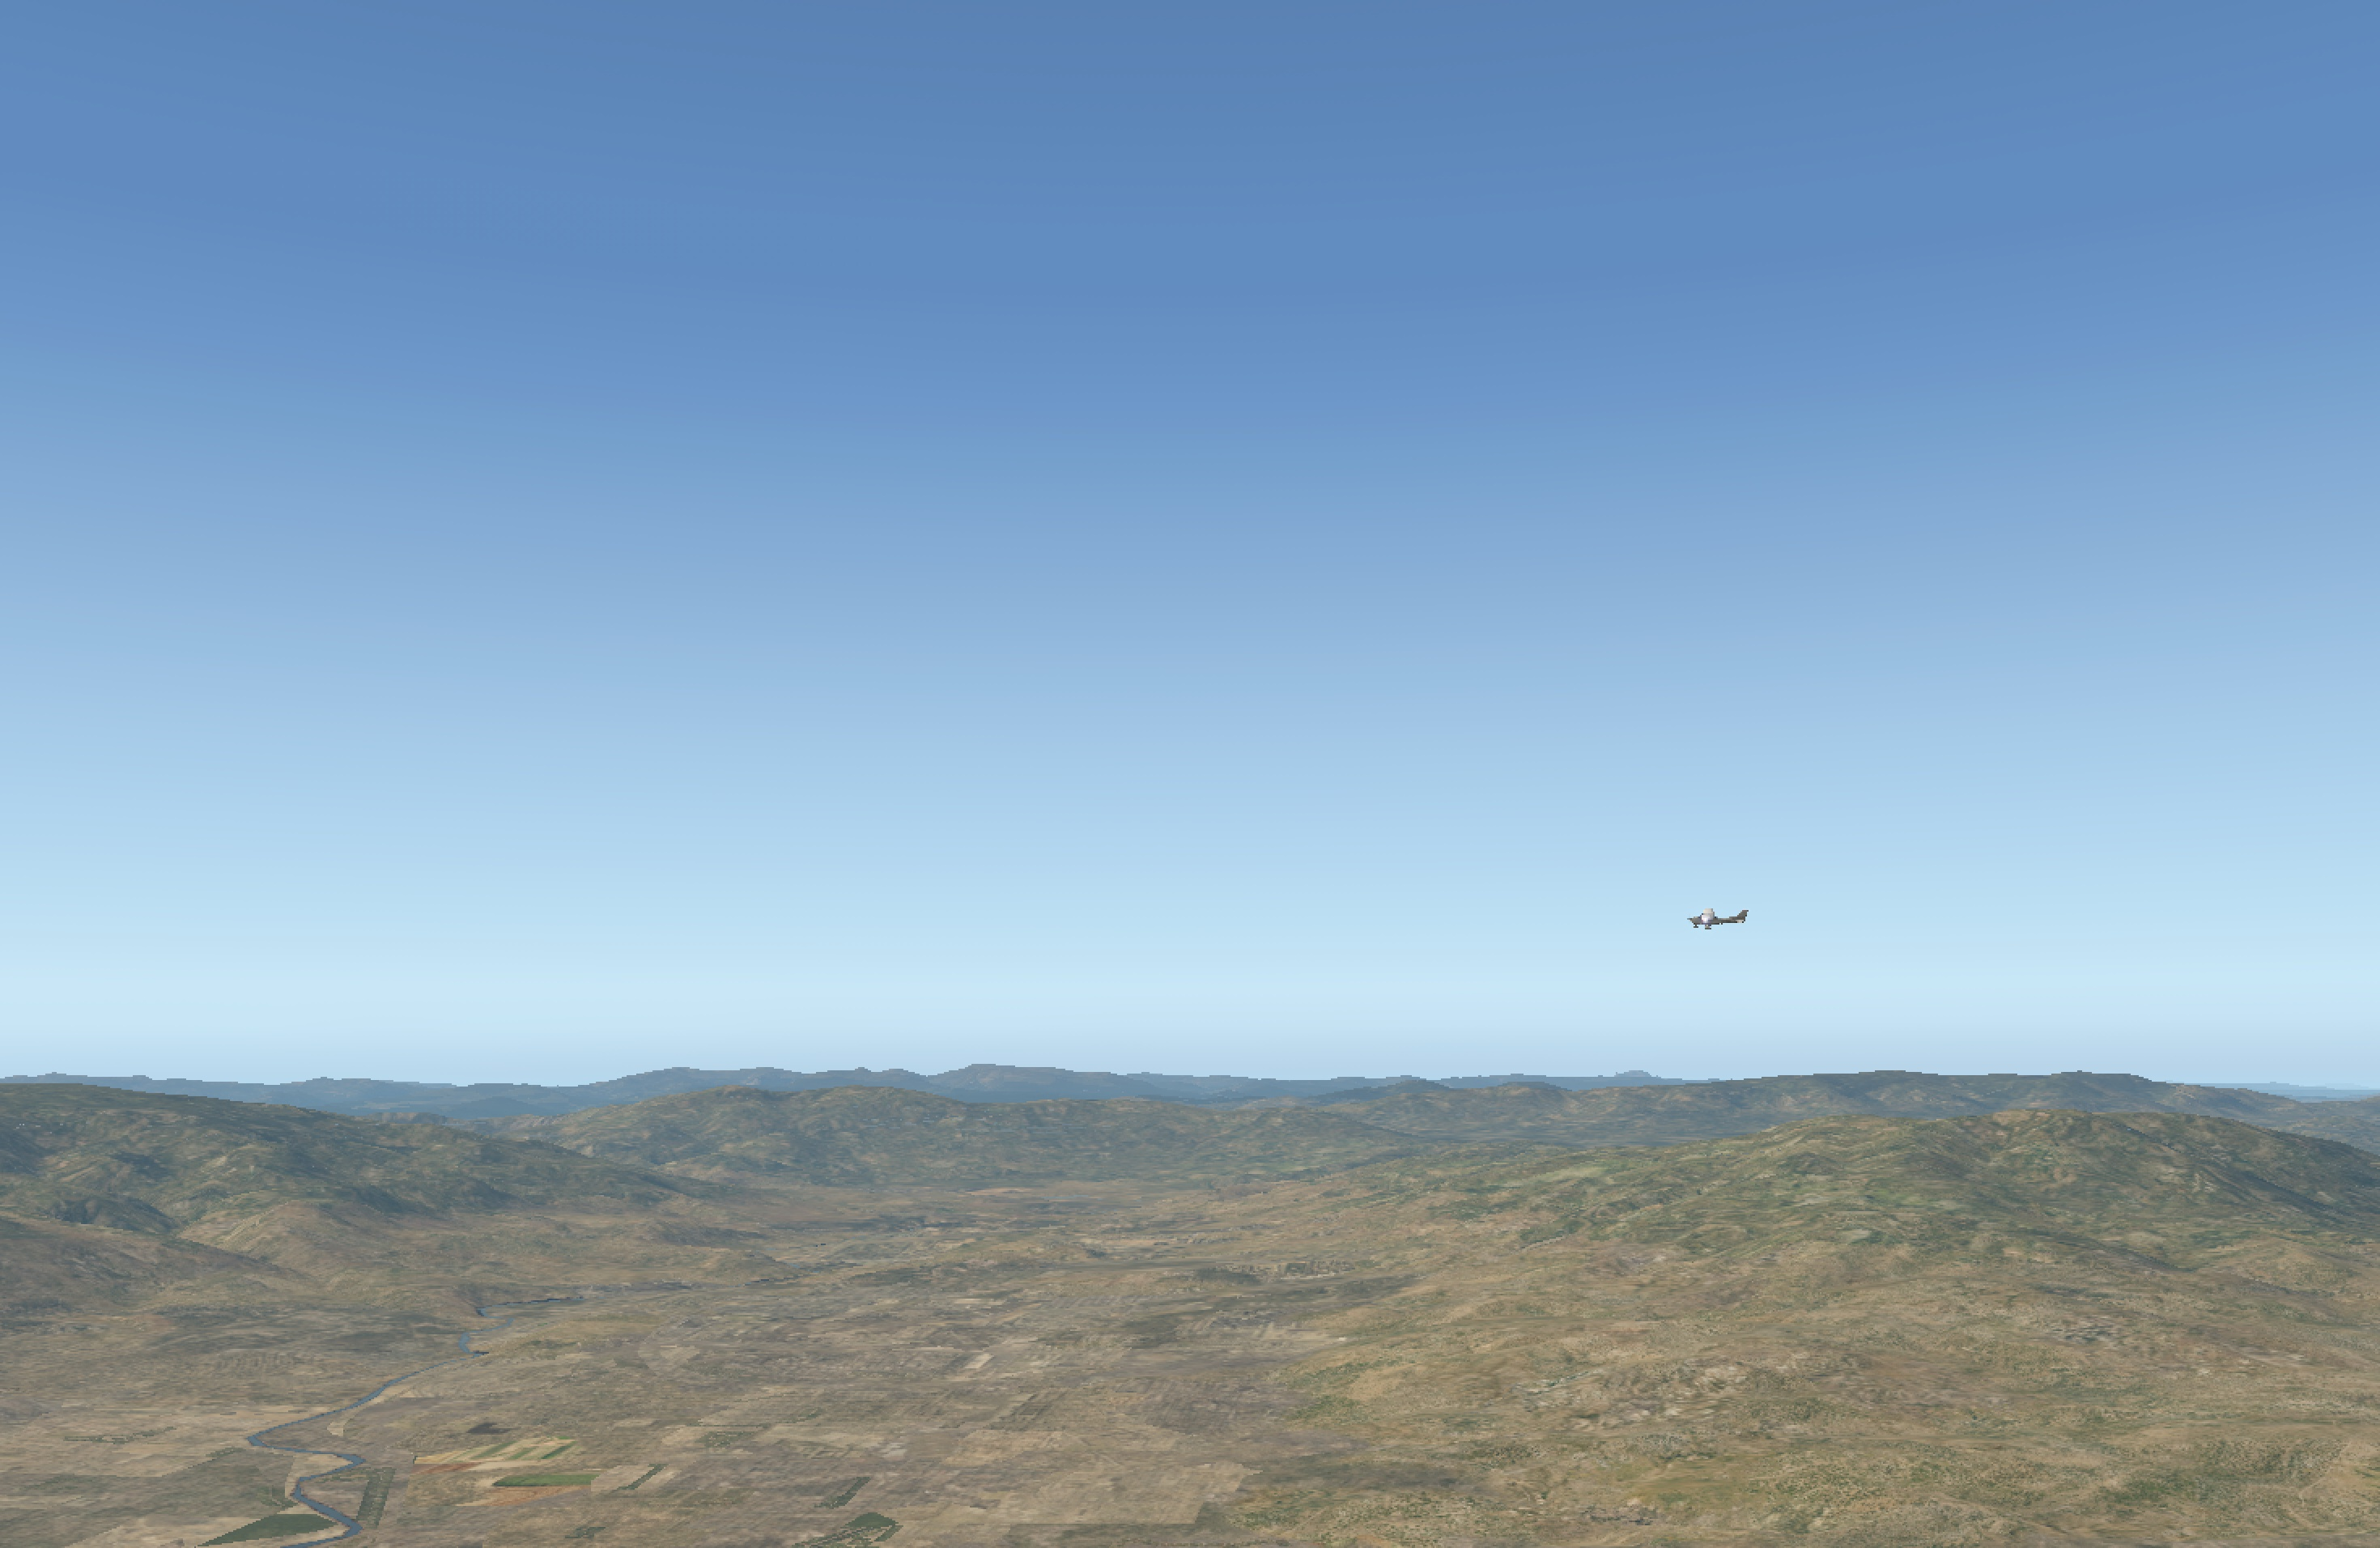aircraft: (1677, 909, 1733, 928)
